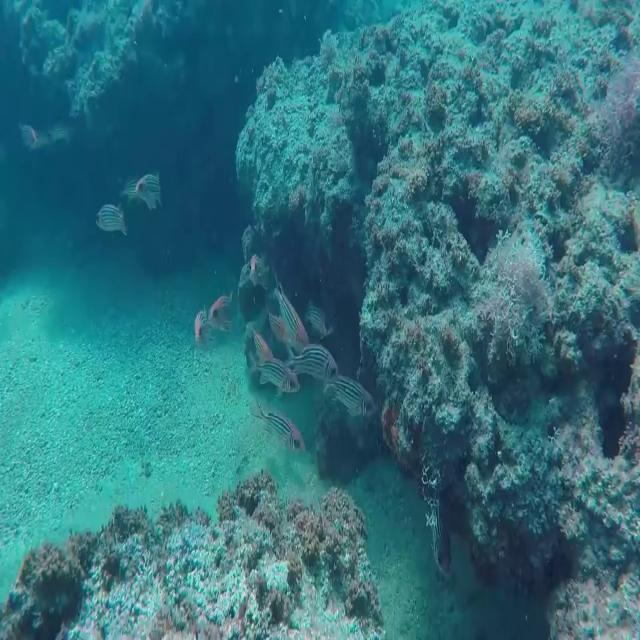Asker Baligi: (321, 354, 382, 437), (237, 401, 316, 464), (246, 343, 304, 402), (290, 338, 336, 387), (84, 199, 131, 236), (209, 287, 234, 349)
